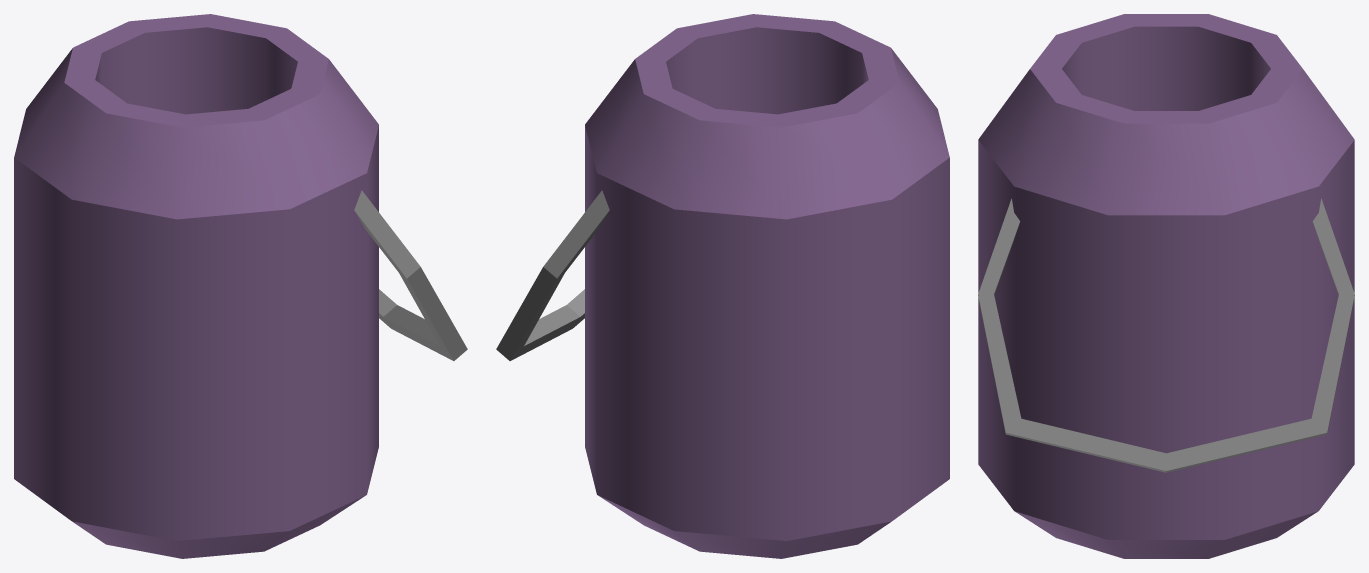
File: SM_lampion.fbx
3 renders of one model, left to right at view 1: azimuth 30°, elevation 25°; view 2: azimuth 150°, elevation 25°; view 3: azimuth 270°, elevation 25°, orthographic.
Parts seen in each view (by area): view 1: SM_lampion; view 2: SM_lampion; view 3: SM_lampion.
Part boxes in pixels (x1,y1,x2,y2): SM_lampion: [14, 14, 467, 558]; SM_lampion: [496, 14, 949, 558]; SM_lampion: [978, 14, 1354, 558].
Size of the model in its own units: 47.77 by 54.36 by 42.64.
